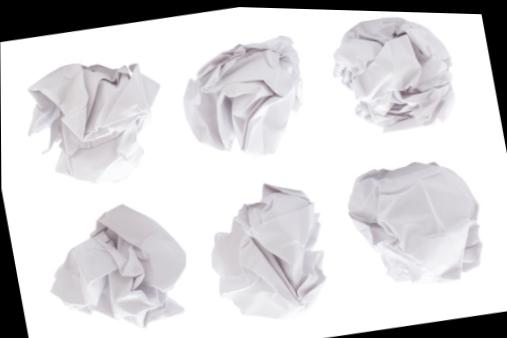paper: (52, 205, 185, 325), (28, 63, 158, 181), (349, 162, 480, 279), (212, 184, 323, 316), (184, 36, 298, 153), (334, 18, 453, 130)
